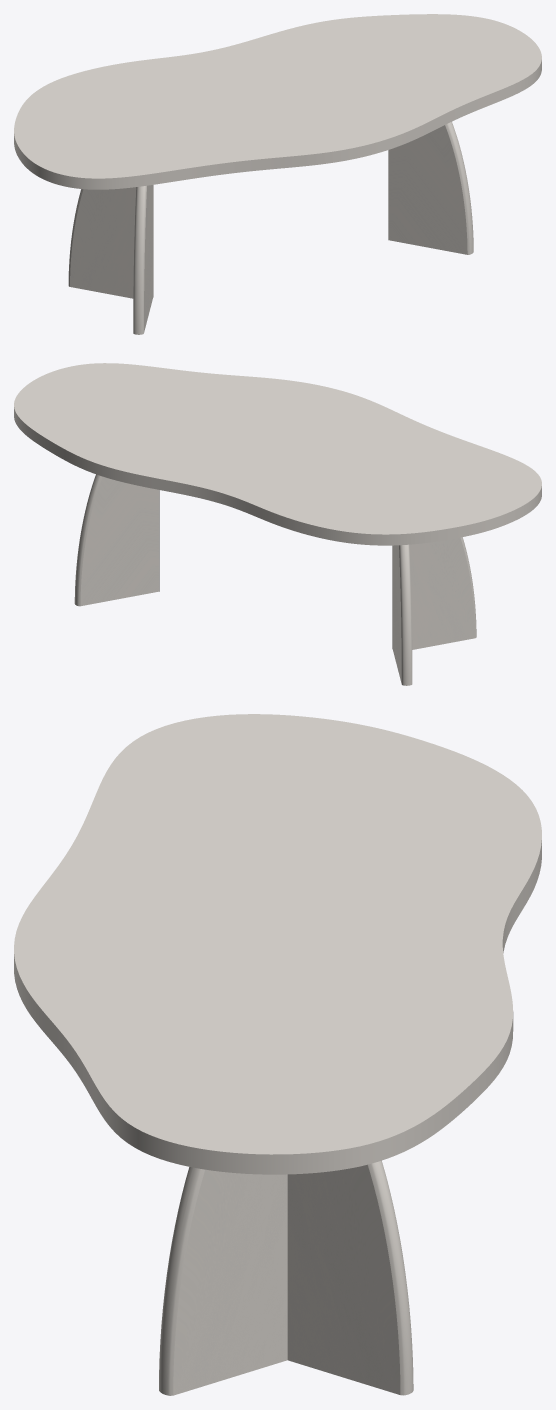
File: pearlwhite_toplast_standard_newtable2.glb
3 renders of one model, top to bottom at view 1: azimuth 30°, elevation 25°; view 2: azimuth 150°, elevation 25°; view 3: azimuth 270°, elevation 25°, orthographic. The views are drawn at different scales.
Parts seen in each view (by area): view 1: standard_toplast, newtable2_singleright2, newtable2_singleleft1, newtable2_singleright1; view 2: standard_toplast, newtable2_singleleft2, newtable2_singleright1, newtable2_singleleft1; view 3: standard_toplast, newtable2_singleright2, newtable2_singleleft2.
Boxes of the visible parts, x1,y1,x2,y2 form: standard_toplast: (14,14,541,189); newtable2_singleright2: (388,122,473,254); newtable2_singleleft1: (68,185,153,298); newtable2_singleright1: (133,185,153,334); standard_toplast: (14,363,541,545); newtable2_singleleft2: (74,474,158,606); newtable2_singleright1: (392,537,476,649); newtable2_singleleft1: (392,544,412,685); standard_toplast: (14,714,541,1174); newtable2_singleright2: (159,1167,287,1395); newtable2_singleleft2: (287,1160,413,1395).
Size of the model in its own units: 7.5 by 2.49 by 3.8.
1 material, 1 textured.
